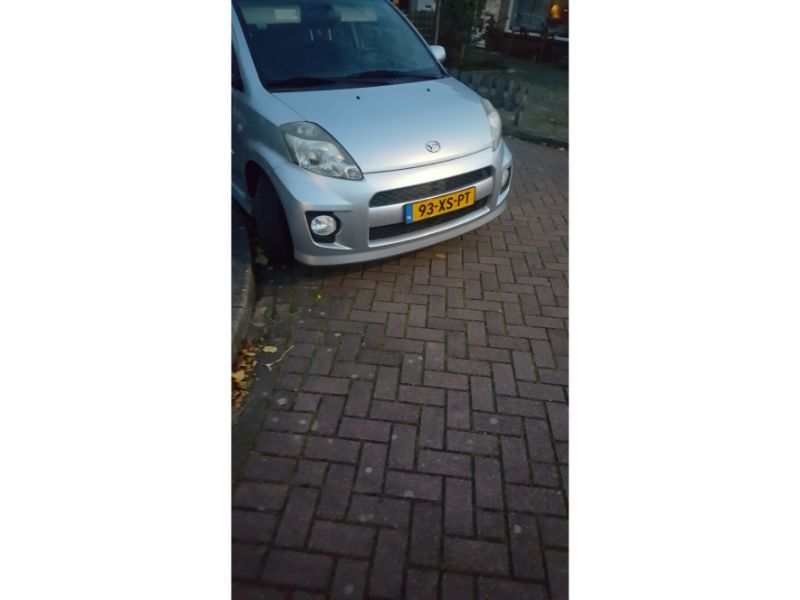kenteken: (404, 186, 478, 226)
